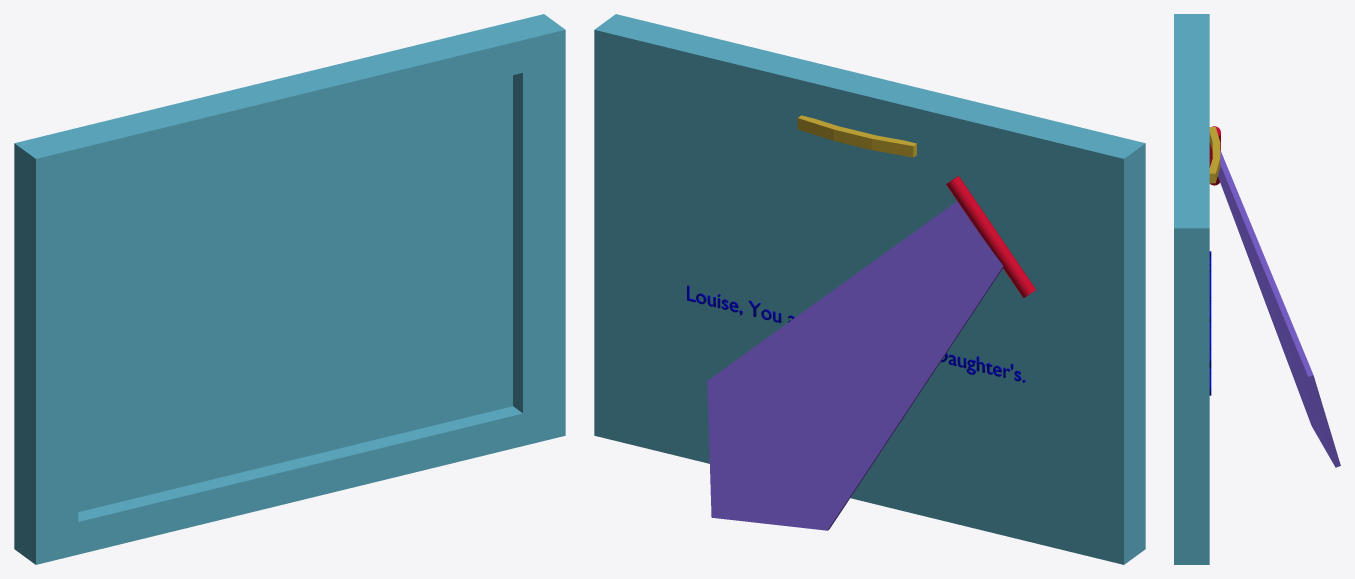
File: EngravedFrame.fbx
3 renders of one model, left to right at view 1: azimuth 30°, elevation 25°; view 2: azimuth 150°, elevation 25°; view 3: azimuth 270°, elevation 25°, orthographic. The views are drawn at different scales.
Parts seen in each view (by area): view 1: Cube.008; view 2: Cube.008, Cube.007, Cylinder.002, Cube.001, Text; view 3: Cube.008, Cube.007, Cube.001, Text.
Part boxes in pixels (x1,y1,x2,y2): Cube.008: (14,14,565,564); Cube.008: (594,14,1145,564); Cube.007: (707,201,1002,530); Cylinder.002: (946,176,1035,298); Cube.001: (797,115,916,157); Text: (687,285,1025,382); Cube.008: (1174,14,1209,564); Cube.007: (1218,150,1340,467); Cube.001: (1209,127,1220,183); Text: (1209,251,1211,395).
Bounding box in the file's own units: 78.76 × 57.68 × 25.92.
